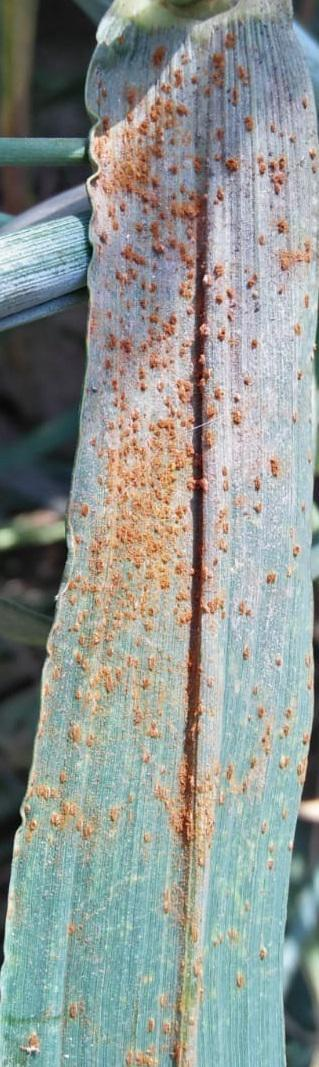Wheat: (204, 68, 293, 1026), (77, 57, 198, 736), (11, 743, 213, 885)
